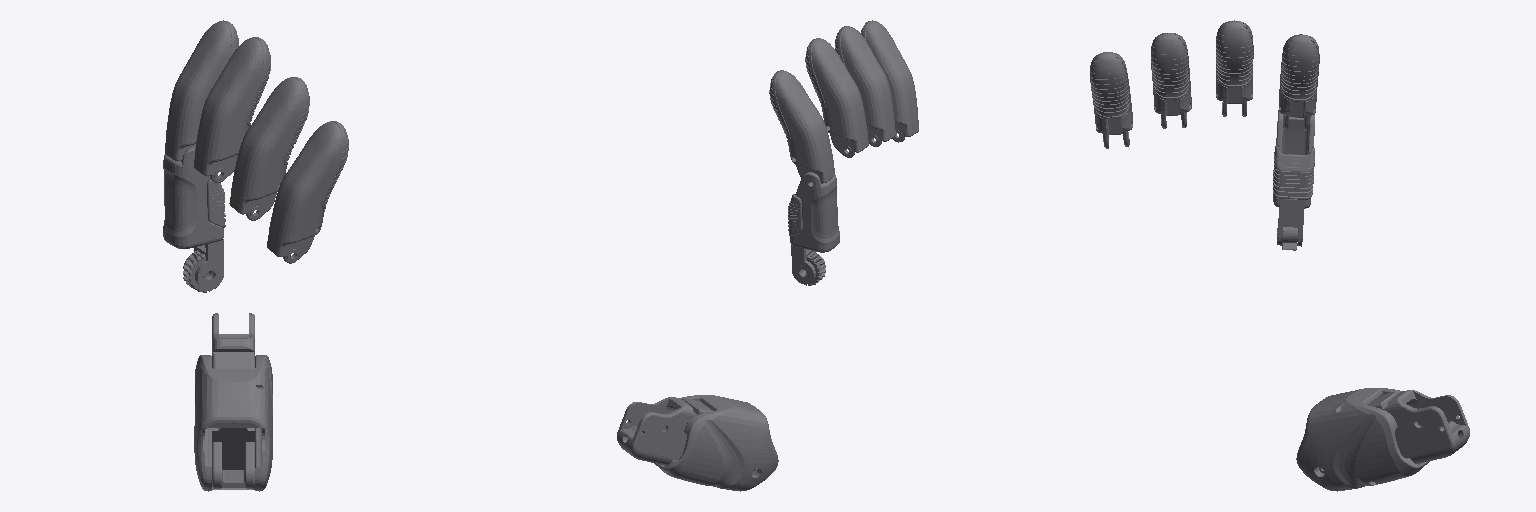
The robot description file, URDF, robot "linker_o6_right_v1.0_urdf":
<?xml version="1.0" encoding="utf-8"?>
<!-- This URDF was automatically created by SolidWorks to URDF Exporter! Originally created by Stephen Brawner (brawner@gmail.com) 
     Commit Version: 1.6.0-4-g7f85cfe  Build Version: 1.6.7995.38578
     For more information, please see http://wiki.ros.org/sw_urdf_exporter -->
<robot
  name="linker_o6_right_v1.0_urdf">
  <material name="silver">
    <color rgba="0.5 0.5 0.52 1.0"/>
  </material>
  
  <material name="BlackAccent">
    <color rgba="0.15 0.15 0.15 1.0"/>
  </material>
  <link
    name="hand_base_link">
    <inertial>
      <origin
        xyz="-0.00160320773490556 0.000358462699237561 0.0538002704027215"
        rpy="0 0 0" />
      <mass
        value="0.06740077960995" />
      <inertia
        ixx="5.22359941041901E-05"
        ixy="3.0391535852764E-07"
        ixz="3.88322215371643E-07"
        iyy="3.33473043513648E-05"
        iyz="-7.77555280794861E-07"
        izz="2.28342677422006E-05" />
    </inertial>
    <visual>
      <origin
        xyz="0 0 0"
        rpy="0 0 0" />
      <geometry>
        <mesh
          filename="meshes/hand_base_link.STL" />
      </geometry>
      <material name="silver"/>
    </visual>
    <collision>
      <origin
        xyz="0 0 0"
        rpy="0 0 0" />
      <geometry>
        <mesh
          filename="meshes/hand_base_link.STL" />
      </geometry>
    </collision>
  </link>
  <link
    name="thumb_metacarpals_base2">
    <inertial>
      <origin
        xyz="0.00162795738393507 0.00276671978336815 -0.00184227725602707"
        rpy="0 0 0" />
      <mass
        value="0.00138591070212997" />
      <inertia
        ixx="5.26294625624223E-08"
        ixy="-3.9288013799604E-09"
        ixz="2.43766268199571E-09"
        iyy="4.82623724532942E-08"
        iyz="3.71867754115443E-09"
        izz="2.88555522060562E-08" />
    </inertial>
    <visual>
      <origin
        xyz="0 0 0"
        rpy="0 0 0" />
      <geometry>
        <mesh
          filename="meshes/thumb_metacarpals_base2.STL" />
      </geometry>
      <material name="BlackAccent"/>
    </visual>
    <collision>
      <origin
        xyz="0 0 0"
        rpy="0 0 0" />
      <geometry>
        <mesh
          filename="meshes/thumb_metacarpals_base2.STL" />
      </geometry>
    </collision>
  </link>
  <joint
    name="thumb_cmc_yaw"
    type="revolute">
    <origin
      xyz="0.011508 0.022975 0.037794"
      rpy="0 0 0" />
    <parent
      link="hand_base_link" />
    <child
      link="thumb_metacarpals_base2" />
    <axis
      xyz="0 0 -1" />
    <limit
      lower="0"
      upper="1.36"
      effort="100"
      velocity="1" />
  </joint>
  <link
    name="thumb_metacarpals">
    <inertial>
      <origin
        xyz="4.24920612856275E-05 -1.67885666835232E-05 0.0228341522590467"
        rpy="0 0 0" />
      <mass
        value="0.0123381607727595" />
      <inertia
        ixx="1.10292488693766E-06"
        ixy="-6.14241939151719E-10"
        ixz="1.14233108676795E-07"
        iyy="1.76757658485787E-06"
        iyz="-4.24576599367025E-10"
        izz="9.36348143657406E-07" />
    </inertial>
    <visual>
      <origin
        xyz="0 0 0"
        rpy="0 0 0" />
      <geometry>
        <mesh
          filename="meshes/thumb_metacarpals.STL" />
      </geometry>
      <material name="silver"/>
    </visual>
    <collision>
      <origin
        xyz="0 0 0"
        rpy="0 0 0" />
      <geometry>
        <mesh
          filename="meshes/thumb_metacarpals.STL" />
      </geometry>
    </collision>
  </link>
  <joint
    name="thumb_cmc_pitch"
    type="revolute">
    <origin
      xyz="0.0061649 0.010678 -0.004891"
      rpy="0 -1.1529 -2.0944" />
    <parent
      link="thumb_metacarpals_base2" />
    <child
      link="thumb_metacarpals" />
    <axis
      xyz="0 1 0" />
    <limit
      lower="0"
      upper="0.58"
      effort="100"
      velocity="1" />
  </joint>
  <link
    name="thumb_distal">
    <inertial>
      <origin
        xyz="-0.00413690727496815 -4.54842793429222E-07 0.0230097179163771"
        rpy="0 0 0" />
      <mass
        value="0.00763302603723749" />
      <inertia
        ixx="1.30546842791578E-06"
        ixy="-2.61617511029467E-12"
        ixz="7.19030685242407E-08"
        iyy="1.22457212713176E-06"
        iyz="1.66931068485225E-11"
        izz="2.7729897944409E-07" />
    </inertial>
    <visual>
      <origin
        xyz="0 0 0"
        rpy="0 0 0" />
      <geometry>
        <mesh
          filename="meshes/thumb_distal.STL" />
      </geometry>
      <material name="silver"/>
    </visual>
    <collision>
      <origin
        xyz="0 0 0"
        rpy="0 0 0" />
      <geometry>
        <mesh
          filename="meshes/thumb_distal.STL" />
      </geometry>
    </collision>
  </link>
  <joint
    name="thumb_ip"
    type="revolute">
    <origin
      xyz="0.0037776 0 0.045368"
      rpy="0 0 0" />
    <parent
      link="thumb_metacarpals" />
    <child
      link="thumb_distal" />
    <axis
      xyz="0 1 0" />
    <limit
      lower="0"
      upper="1.08"
      effort="100"
      velocity="1" />
    <mimic
      joint="thumb_cmc_pitch"
      multiplier="1.86"
      offset="0" />
  </joint>
  <link
    name="index_proximal">
    <inertial>
      <origin
        xyz="-0.00208665596033792 -4.8964990644329E-06 0.0172736718900068"
        rpy="0 0 0" />
      <mass
        value="0.00253178529301663" />
      <inertia
        ixx="2.65990159539482E-07"
        ixy="-3.55165625722842E-11"
        ixz="4.31046335852167E-08"
        iyy="2.72915460277804E-07"
        iyz="1.75935978708959E-10"
        izz="8.56026306687528E-08" />
    </inertial>
    <visual>
      <origin
        xyz="0 0 0"
        rpy="0 0 0" />
      <geometry>
        <mesh
          filename="meshes/index_proximal.STL" />
      </geometry>
      <material name="silver"/>
    </visual>
    <collision>
      <origin
        xyz="0 0 0"
        rpy="0 0 0" />
      <geometry>
        <mesh
          filename="meshes/index_proximal.STL" />
      </geometry>
    </collision>
  </link>
  <joint
    name="index_mcp_pitch"
    type="revolute">
    <origin
      xyz="0.0024758 0.02419 0.103779"
      rpy="-0.05236 0 0" />
    <parent
      link="hand_base_link" />
    <child
      link="index_proximal" />
    <axis
      xyz="0 1 0" />
    <limit
      lower="0"
      upper="1.60"
      effort="100"
      velocity="1" />
  </joint>
  <link
    name="index_distal">
    <inertial>
      <origin
        xyz="0.00658940011630532 -4.59976557022623E-06 0.0194434136420913"
        rpy="0 0 0" />
      <mass
        value="0.00376787129082313" />
      <inertia
        ixx="3.22116619426455E-07"
        ixy="1.03152735699049E-11"
        ixz="-1.14363506430985E-07"
        iyy="3.65131844686317E-07"
        iyz="-1.97263639269362E-10"
        izz="1.24256890612907E-07" />
    </inertial>
    <visual>
      <origin
        xyz="0 0 0"
        rpy="0 0 0" />
      <geometry>
        <mesh
          filename="meshes/index_distal.STL" />
      </geometry>
      <material name="silver"/>
    </visual>
    <collision>
      <origin
        xyz="0 0 0"
        rpy="0 0 0" />
      <geometry>
        <mesh
          filename="meshes/index_distal.STL" />
      </geometry>
    </collision>
  </link>
  <joint
    name="index_dip"
    type="revolute">
    <origin
      xyz="-0.0052516 0 0.036625"
      rpy="0 0 0" />
    <parent
      link="index_proximal" />
    <child
      link="index_distal" />
    <axis
      xyz="0 1 0" />
    <limit
      lower="0"
      upper="1.43"
      effort="100"
      velocity="1" />
    <mimic
      joint="index_mcp_pitch"
      multiplier="0.89"
      offset="0" />
  </joint>
  <link
    name="middle_proximal">
    <inertial>
      <origin
        xyz="-0.00208661081773556 -4.93451838476378E-06 0.0172736805321904"
        rpy="0 0 0" />
      <mass
        value="0.00253175497594429" />
      <inertia
        ixx="2.65989683690695E-07"
        ixy="-3.58343951791586E-11"
        ixz="4.31048601085216E-08"
        iyy="2.72915006047006E-07"
        iyz="1.75718024412593E-10"
        izz="8.56020467202518E-08" />
    </inertial>
    <visual>
      <origin
        xyz="0 0 0"
        rpy="0 0 0" />
      <geometry>
        <mesh
          filename="meshes/middle_proximal.STL" />
      </geometry>
      <material name="silver"/>
    </visual>
    <collision>
      <origin
        xyz="0 0 0"
        rpy="0 0 0" />
      <geometry>
        <mesh
          filename="meshes/middle_proximal.STL" />
      </geometry>
    </collision>
  </link>
  <joint
    name="middle_mcp_pitch"
    type="revolute">
    <origin
      xyz="0.00052576 0.00634 0.1077"
      rpy="0 0 0" />
    <parent
      link="hand_base_link" />
    <child
      link="middle_proximal" />
    <axis
      xyz="0 1 0" />
    <limit
      lower="0"
      upper="1.60"
      effort="100"
      velocity="1" />
  </joint>
  <link
    name="middle_distal">
    <inertial>
      <origin
        xyz="0.00658940304809306 -4.5885743593238E-06 0.0194434523296449"
        rpy="0 0 0" />
      <mass
        value="0.00376786259758948" />
      <inertia
        ixx="3.221153658306E-07"
        ixy="1.02639617308432E-11"
        ixz="-1.14363547272711E-07"
        iyy="3.65130723083104E-07"
        iyz="-1.96904618797577E-10"
        izz="1.24256787913797E-07" />
    </inertial>
    <visual>
      <origin
        xyz="0 0 0"
        rpy="0 0 0" />
      <geometry>
        <mesh
          filename="meshes/middle_distal.STL" />
      </geometry>
      <material name="silver"/>
    </visual>
    <collision>
      <origin
        xyz="0 0 0"
        rpy="0 0 0" />
      <geometry>
        <mesh
          filename="meshes/middle_distal.STL" />
      </geometry>
    </collision>
  </link>
  <joint
    name="middle_dip"
    type="revolute">
    <origin
      xyz="-0.0052516 0 0.036625"
      rpy="0 0 0" />
    <parent
      link="middle_proximal" />
    <child
      link="middle_distal" />
    <axis
      xyz="0 1 0" />
    <limit
      lower="0"
      upper="1.43"
      effort="100"
      velocity="1" />
    <mimic
      joint="middle_mcp_pitch"
      multiplier="0.89"
      offset="0" />
  </joint>
  <link
    name="ring_proximal">
    <inertial>
      <origin
        xyz="-0.00208654311325356 -4.98538564003281E-06 0.0172736743497407"
        rpy="0 0 0" />
      <mass
        value="0.00253170963529411" />
      <inertia
        ixx="2.6598913795678E-07"
        ixy="-3.62757108675266E-11"
        ixz="4.31050611555507E-08"
        iyy="2.72914417061517E-07"
        iyz="1.75554984053478E-10"
        izz="8.56012458677515E-08" />
    </inertial>
    <visual>
      <origin
        xyz="0 0 0"
        rpy="0 0 0" />
      <geometry>
        <mesh
          filename="meshes/ring_proximal.STL" />
      </geometry>
      <material name="silver"/>
    </visual>
    <collision>
      <origin
        xyz="0 0 0"
        rpy="0 0 0" />
      <geometry>
        <mesh
          filename="meshes/ring_proximal.STL" />
      </geometry>
    </collision>
  </link>
  <joint
    name="ring_mcp_pitch"
    type="revolute">
    <origin
      xyz="0.0010258 -0.011135 0.103767"
      rpy="0.05236 0 0" />
    <parent
      link="hand_base_link" />
    <child
      link="ring_proximal" />
    <axis
      xyz="0 1 0" />
    <limit
      lower="0"
      upper="1.60"
      effort="100"
      velocity="1" />
  </joint>
  <link
    name="ring_distal">
    <inertial>
      <origin
        xyz="0.00658940273069729 -4.56628863591824E-06 0.0194435005686854"
        rpy="0 0 0" />
      <mass
        value="0.0037678395356105" />
      <inertia
        ixx="3.22112632437858E-07"
        ixy="1.01848408913558E-11"
        ixz="-1.1436348915342E-07"
        iyy="3.65128262095686E-07"
        iyz="-1.96145632992445E-10"
        izz="1.24256284608064E-07" />
    </inertial>
    <visual>
      <origin
        xyz="0 0 0"
        rpy="0 0 0" />
      <geometry>
        <mesh
          filename="meshes/ring_distal.STL" />
      </geometry>
      <material name="silver"/>
    </visual>
    <collision>
      <origin
        xyz="0 0 0"
        rpy="0 0 0" />
      <geometry>
        <mesh
          filename="meshes/ring_distal.STL" />
      </geometry>
    </collision>
  </link>
  <joint
    name="ring_dip"
    type="revolute">
    <origin
      xyz="-0.0052516 0 0.036625"
      rpy="0 0 0" />
    <parent
      link="ring_proximal" />
    <child
      link="ring_distal" />
    <axis
      xyz="0 1 0" />
    <limit
      lower="0"
      upper="1.43"
      effort="100"
      velocity="1" />
    <mimic
      joint="ring_mcp_pitch"
      multiplier="0.89"
      offset="0" />
  </joint>
  <link
    name="pinky_proximal">
    <inertial>
      <origin
        xyz="-0.00208649034130813 -5.02314582560837E-06 0.0172736680793697"
        rpy="0 0 0" />
      <mass
        value="0.00253167400540778" />
      <inertia
        ixx="2.65988718820404E-07"
        ixy="-3.66012295280295E-11"
        ixz="4.31052220484445E-08"
        iyy="2.72913936904813E-07"
        iyz="1.75447396222308E-10"
        izz="8.56006424720129E-08" />
    </inertial>
    <visual>
      <origin
        xyz="0 0 0"
        rpy="0 0 0" />
      <geometry>
        <mesh
          filename="meshes/pinky_proximal.STL" />
      </geometry>
      <material name="silver"/>
    </visual>
    <collision>
      <origin
        xyz="0 0 0"
        rpy="0 0 0" />
      <geometry>
        <mesh
          filename="meshes/pinky_proximal.STL" />
      </geometry>
    </collision>
  </link>
  <joint
    name="pinky_mcp_pitch"
    type="revolute">
    <origin
      xyz="0.0024758 -0.028372 0.097741"
      rpy="0.087266 0 0" />
    <parent
      link="hand_base_link" />
    <child
      link="pinky_proximal" />
    <axis
      xyz="0 1 0" />
    <limit
      lower="0"
      upper="1.60"
      effort="100"
      velocity="1" />
  </joint>
  <link
    name="pinky_distal">
    <inertial>
      <origin
        xyz="0.00658940431519205 -4.55268314210333E-06 0.0194435341098305"
        rpy="0 0 0" />
      <mass
        value="0.00376782669873412" />
      <inertia
        ixx="3.22111112339498E-07"
        ixy="1.01707985908333E-11"
        ixz="-1.14363524419061E-07"
        iyy="3.65126916899176E-07"
        iyz="-1.95589215866356E-10"
        izz="1.24256004854426E-07" />
    </inertial>
    <visual>
      <origin
        xyz="0 0 0"
        rpy="0 0 0" />
      <geometry>
        <mesh
          filename="meshes/pinky_distal.STL" />
      </geometry>
      <material name="silver"/>
    </visual>
    <collision>
      <origin
        xyz="0 0 0"
        rpy="0 0 0" />
      <geometry>
        <mesh
          filename="meshes/pinky_distal.STL" />
      </geometry>
    </collision>
  </link>
  <joint
    name="pinky_dip"
    type="revolute">
    <origin
      xyz="-0.0052516 0 0.036625"
      rpy="0 0 0" />
    <parent
      link="pinky_proximal" />
    <child
      link="pinky_distal" />
    <axis
      xyz="0 1 0" />
    <limit
      lower="0"
      upper="1.43"
      effort="100"
      velocity="1" />
    <mimic
      joint="pinky_mcp_pitch"
      multiplier="0.89"
      offset="0" />
  </joint>
</robot>

--- Facts derived from the render (not from the file) ---
The picture shows the robot from 3 angles, left to right: view 1: azimuth 30°, elevation 25°; view 2: azimuth 150°, elevation 25°; view 3: azimuth 270°, elevation 25°; orthographic projection.
Model linker_o6_right_v1.0_urdf with 12 links and 11 joints (11 revolute), rooted at hand_base_link, posed every joint at zero.
Links seen in each view (by area): view 1: thumb_metacarpals, index_proximal, pinky_distal, ring_distal, middle_distal, index_distal; view 2: thumb_metacarpals, index_proximal, middle_distal, index_distal, ring_distal, pinky_distal; view 3: thumb_metacarpals, index_proximal, pinky_distal, ring_distal, index_distal, middle_distal.
Boxes of the visible links, x1=… form: thumb_metacarpals: x1=194, y1=313, x2=272, y2=491; index_proximal: x1=163, y1=147, x2=225, y2=292; pinky_distal: x1=267, y1=121, x2=348, y2=263; ring_distal: x1=229, y1=77, x2=309, y2=220; middle_distal: x1=194, y1=37, x2=270, y2=182; index_distal: x1=165, y1=20, x2=238, y2=161; thumb_metacarpals: x1=617, y1=395, x2=778, y2=491; index_proximal: x1=788, y1=172, x2=839, y2=285; middle_distal: x1=805, y1=38, x2=868, y2=157; index_distal: x1=769, y1=70, x2=834, y2=183; ring_distal: x1=835, y1=26, x2=895, y2=146; pinky_distal: x1=861, y1=20, x2=918, y2=142; thumb_metacarpals: x1=1296, y1=388, x2=1469, y2=491; index_proximal: x1=1273, y1=110, x2=1314, y2=250; pinky_distal: x1=1090, y1=52, x2=1132, y2=148; ring_distal: x1=1151, y1=33, x2=1191, y2=128; index_distal: x1=1279, y1=34, x2=1319, y2=130; middle_distal: x1=1216, y1=20, x2=1253, y2=116.
Bounding box of the posed robot: 0.0584 × 0.122 × 0.1584 m (x, y, z).
Meshes: 12 distinct files referenced, 6 mesh visuals loaded (6 binary STL); not drawn: 6 (reference not matched to a file when rendering).
